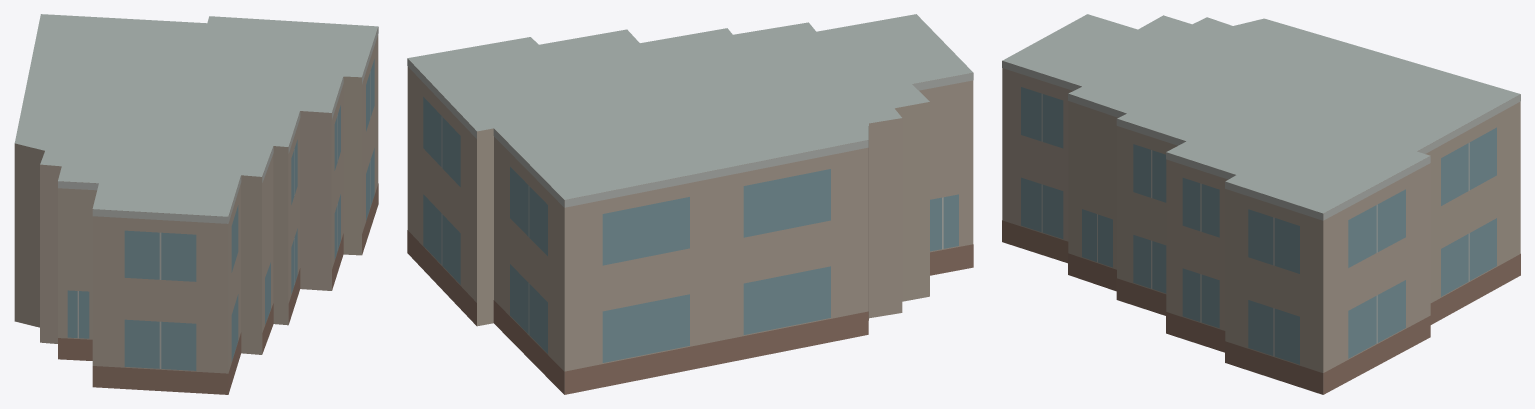
Rendered from survey-upis-32884016.glb.
3 views of the same model, side by side, from view 1: azimuth 30°, elevation 25°; view 2: azimuth 150°, elevation 25°; view 3: azimuth 270°, elevation 25° (orthographic). The views are drawn at different scales.
Parts seen in each view (by area): view 1: survey-upis-32884016.tmp; view 2: survey-upis-32884016.tmp; view 3: survey-upis-32884016.tmp.
Part boxes in pixels (<box>): survey-upis-32884016.tmp: <box>14,14,378,394</box>; survey-upis-32884016.tmp: <box>407,14,973,394</box>; survey-upis-32884016.tmp: <box>1002,14,1520,394</box>.
Size of the model in its own units: 14.4 by 6.1 by 15.81.
